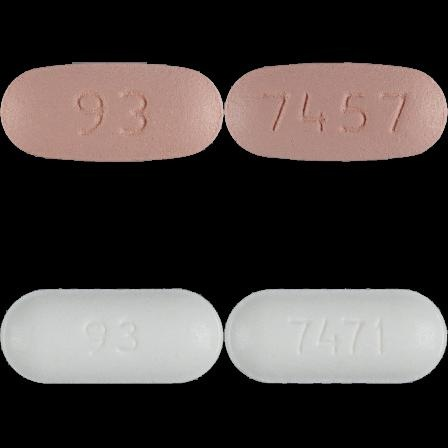0093-7457: (0, 0, 224, 224)
